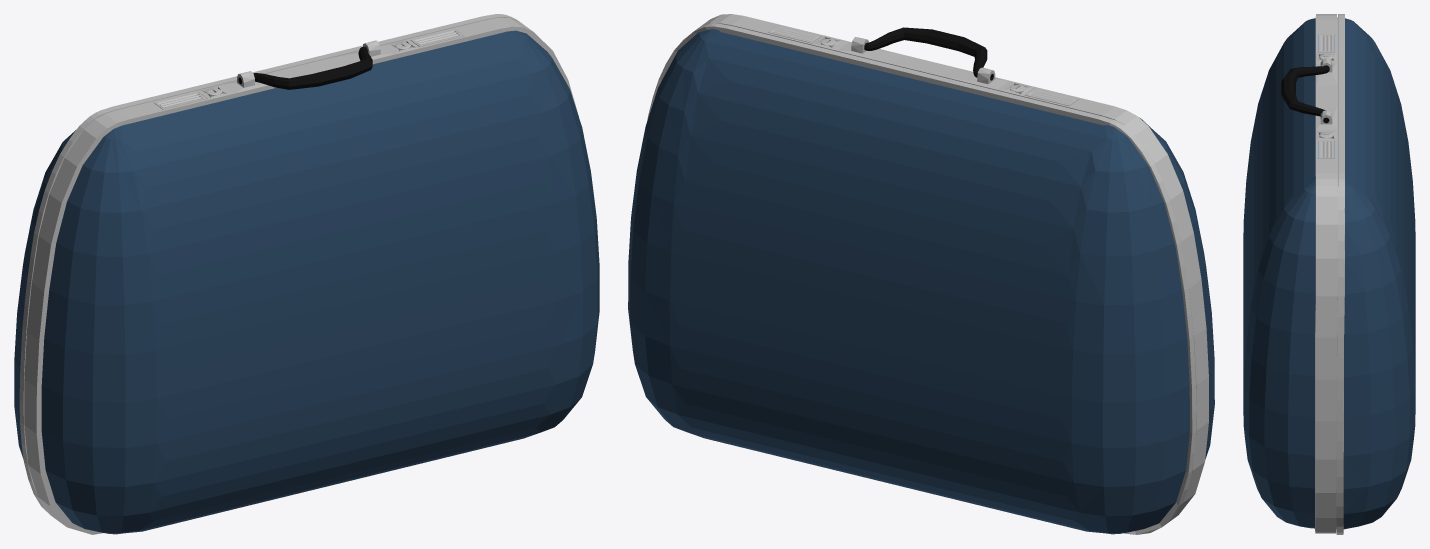
File: suitcase.obj
3 renders of one model, left to right at view 1: azimuth 30°, elevation 25°; view 2: azimuth 150°, elevation 25°; view 3: azimuth 270°, elevation 25°, orthographic. The views are drawn at different scales.
Visible parts, largest first — view 1: Valise-1_Mesh.001, CoqueSup_Mesh, Poignee_Cylinder.002; view 2: CoqueSup_Mesh, Valise-1_Mesh.001, Poignee_Cylinder.002; view 3: Valise-1_Mesh.001, CoqueSup_Mesh, Poignee_Cylinder.002.
Part boxes in pixels (bbox=[...]): Valise-1_Mesh.001: bbox=[24, 17, 599, 534]; CoqueSup_Mesh: bbox=[14, 14, 519, 517]; Poignee_Cylinder.002: bbox=[238, 46, 372, 89]; CoqueSup_Mesh: bbox=[628, 23, 1196, 534]; Valise-1_Mesh.001: bbox=[698, 14, 1214, 523]; Poignee_Cylinder.002: bbox=[864, 27, 993, 80]; Valise-1_Mesh.001: bbox=[1243, 14, 1336, 533]; CoqueSup_Mesh: bbox=[1336, 14, 1415, 534]; Poignee_Cylinder.002: bbox=[1281, 65, 1329, 123].
Size of the model in its own units: 99.84 by 72.46 by 31.5.
